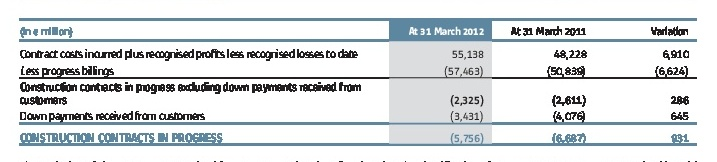table: (0, 0, 717, 162)
